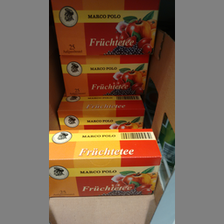tea: (49, 130, 164, 198), (49, 1, 160, 55), (59, 55, 149, 96), (57, 95, 145, 130)
